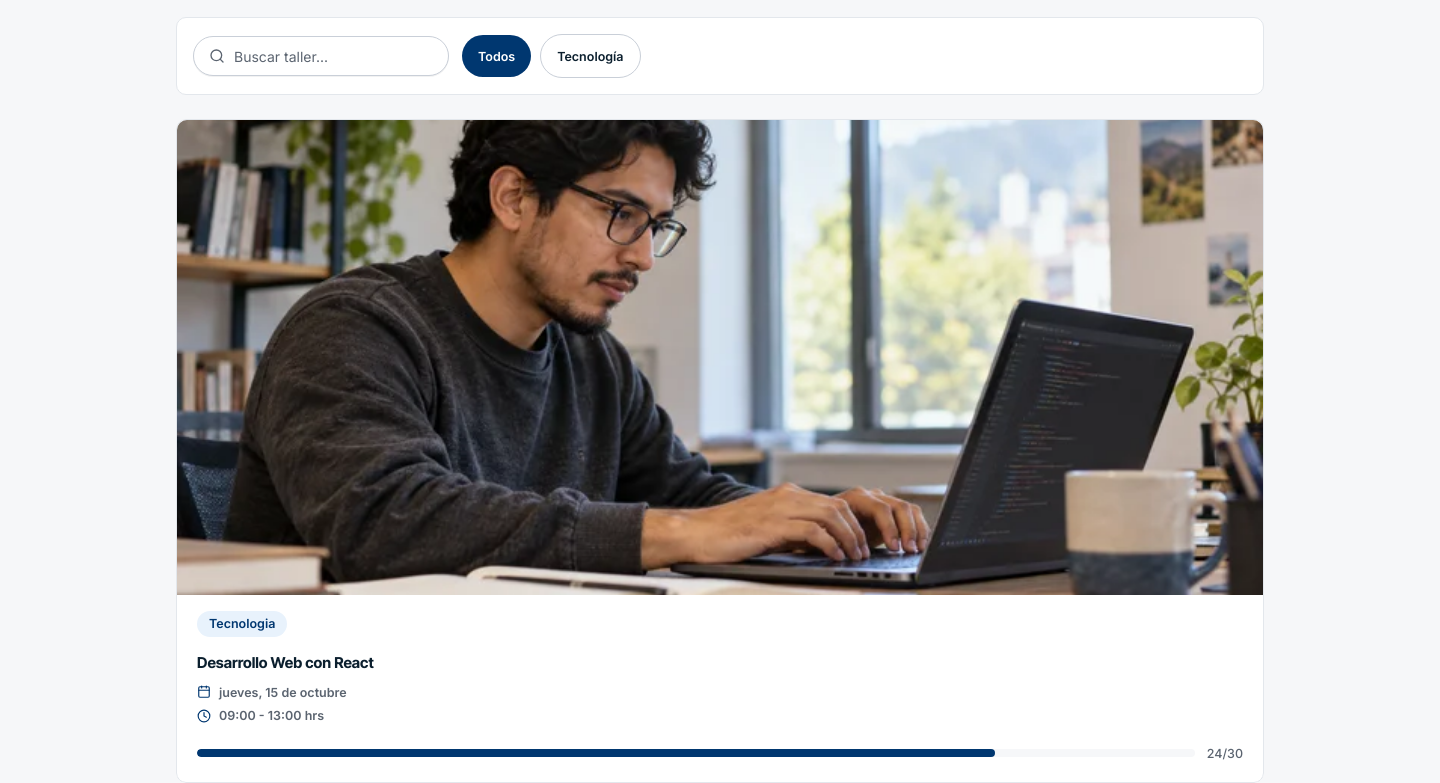
Scenario: EventsView › closes the selected workshop using button
The image size is (1440, 783).
(page scrolled)
Click the button "Desarrollo Web con React".
click(720, 451)  # box [176,119,1264,782]
(page scrolled)
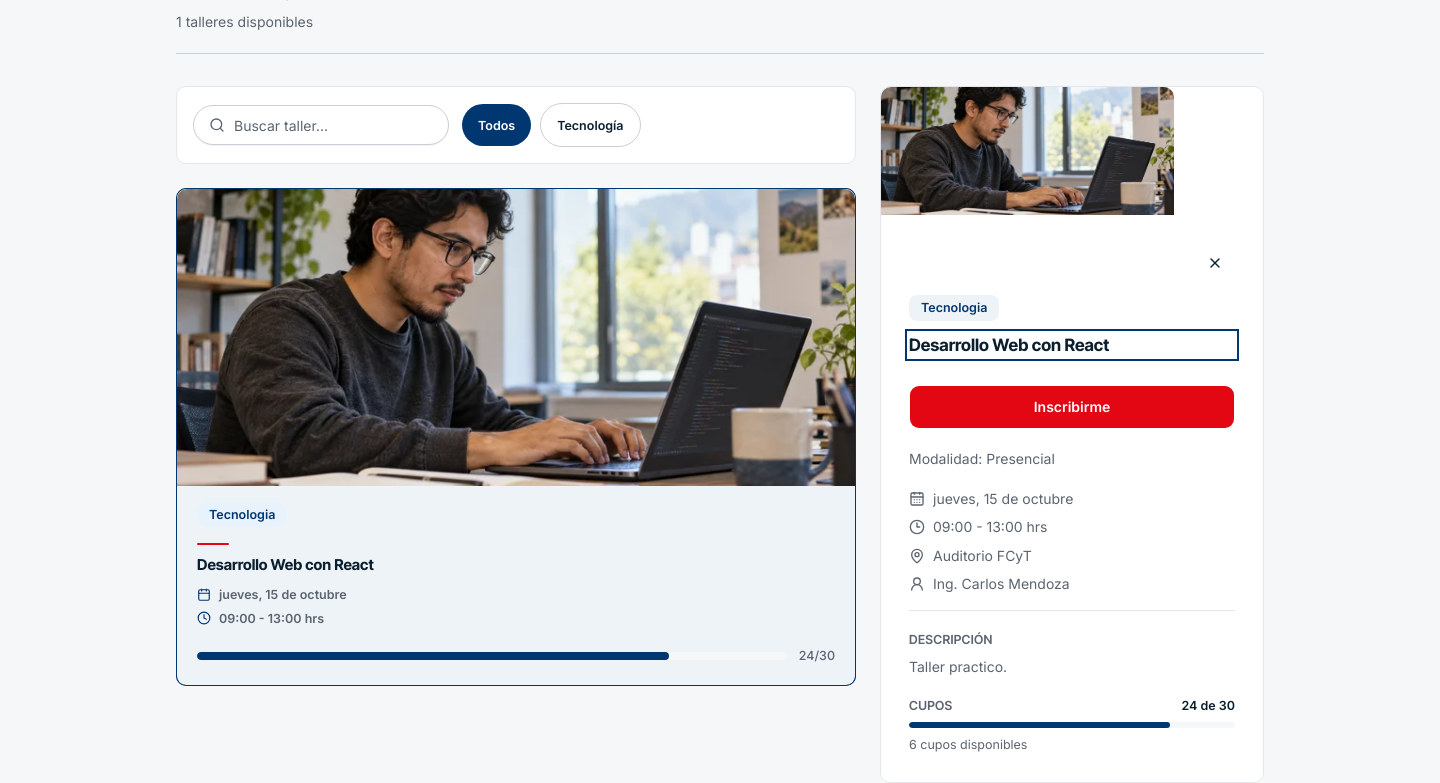
Result: the button "Inscribirme" is shown at [909,385,1235,429]
Click the button named "Cerrar detalle del taller".
click(1215, 263)  # box [1195,243,1235,283]
(page scrolled)
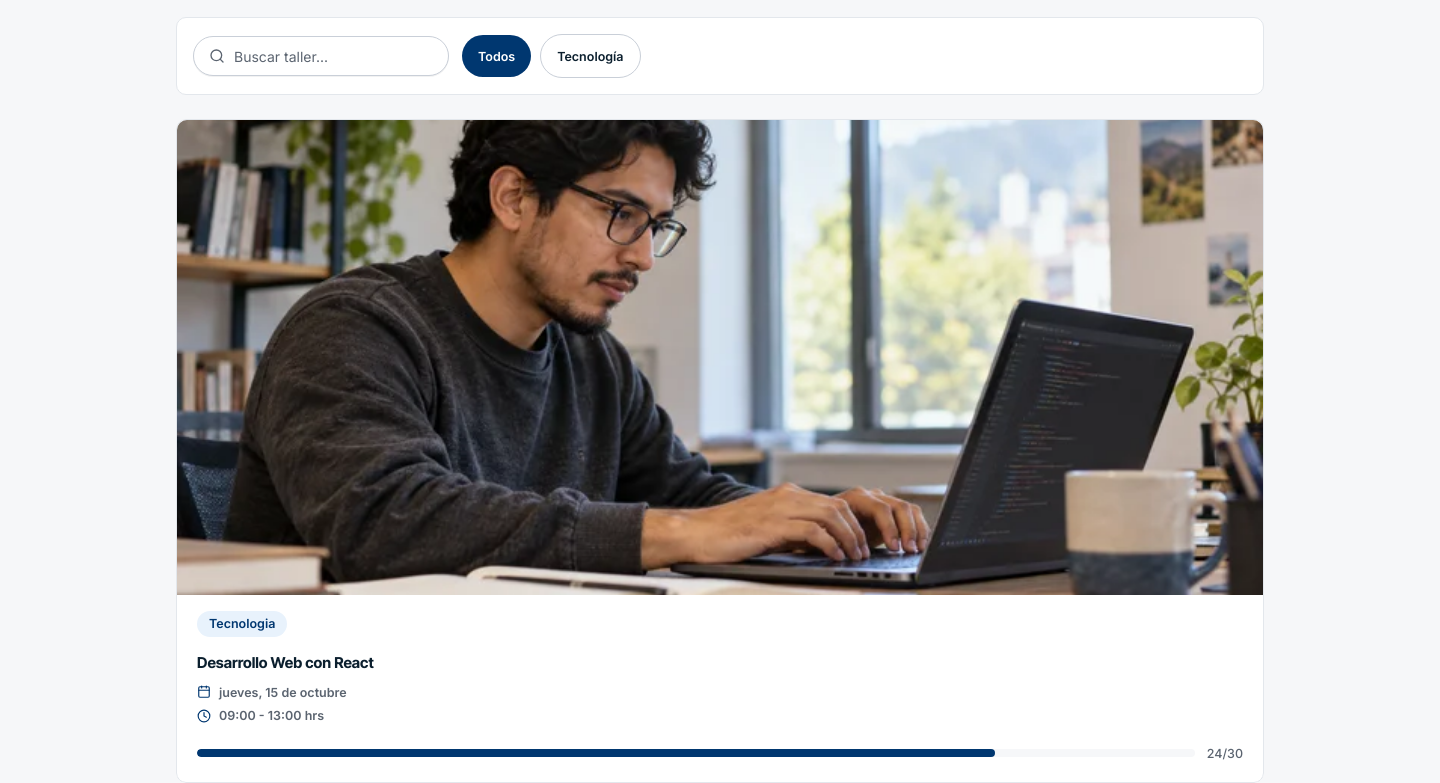
Result: the button "Inscribirme" is gone
